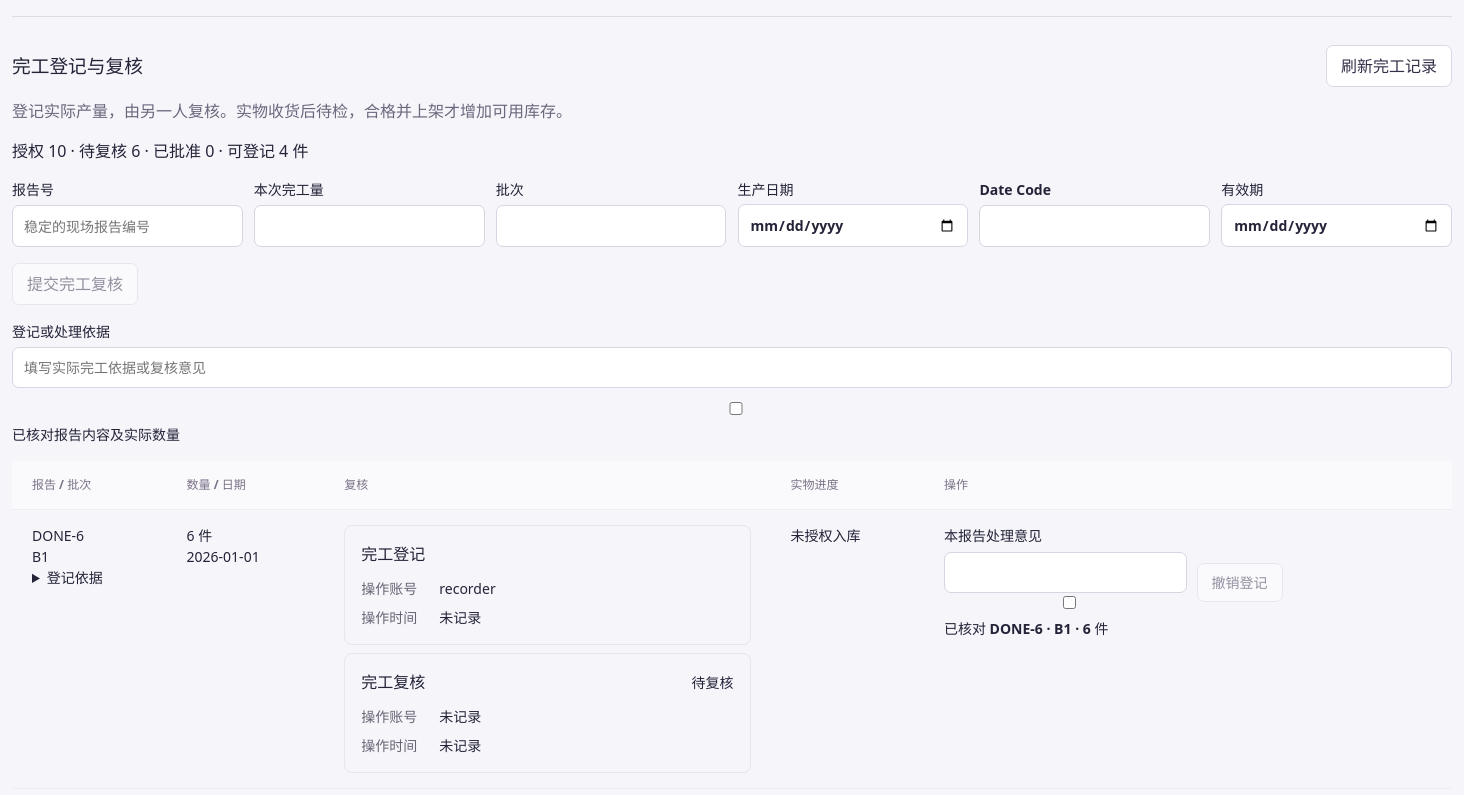
clears rejected version command and reloads current facts
Step 1. Type "核对实际产量" into the field with placeholder "填写实际完工依据或复核意见" → (732, 368), box [12,347,1452,388]
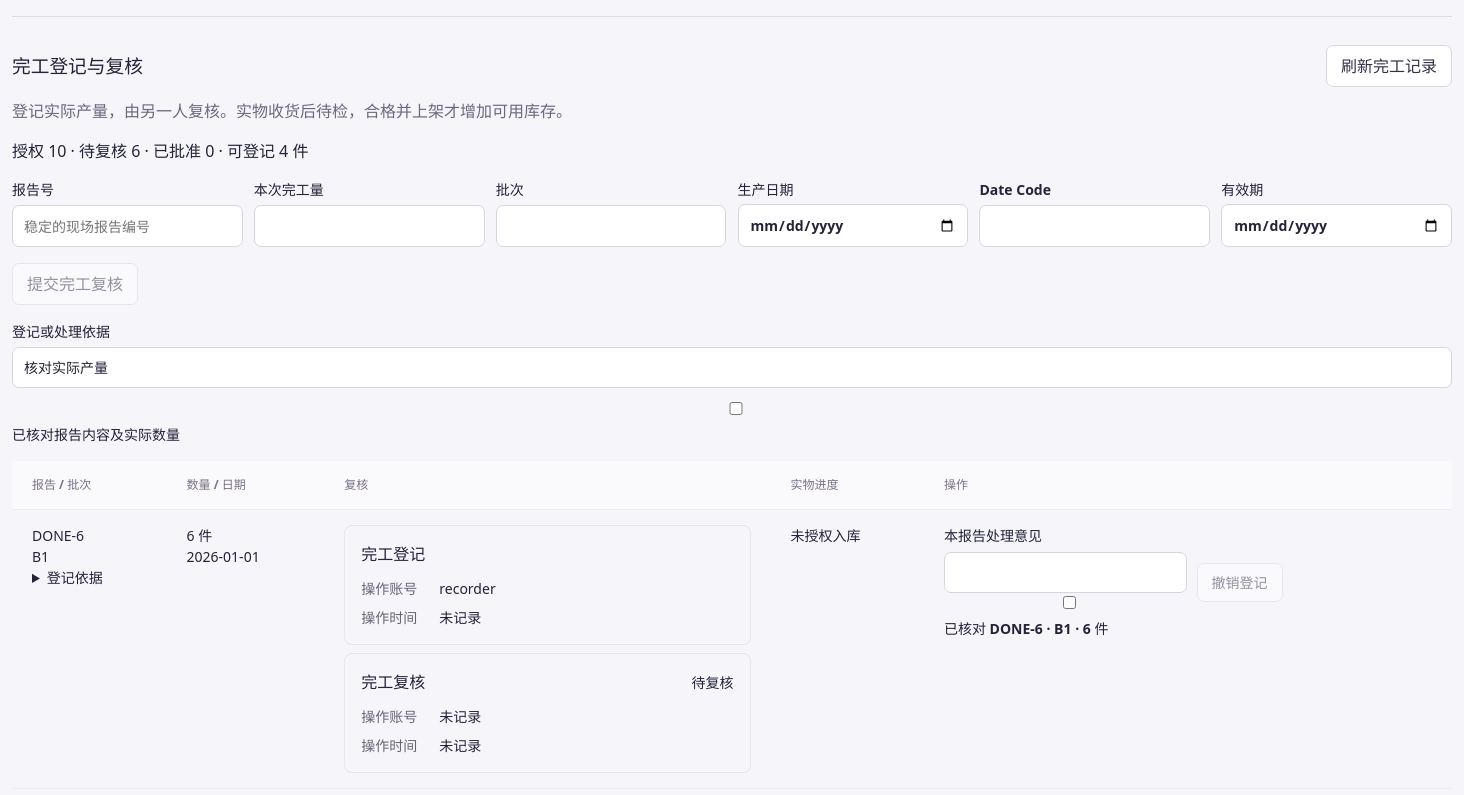
Step 2. Type "核对实际产量" into the field labelled "本报告处理意见" → (1066, 573), box [944,552,1187,593]
(page scrolled)
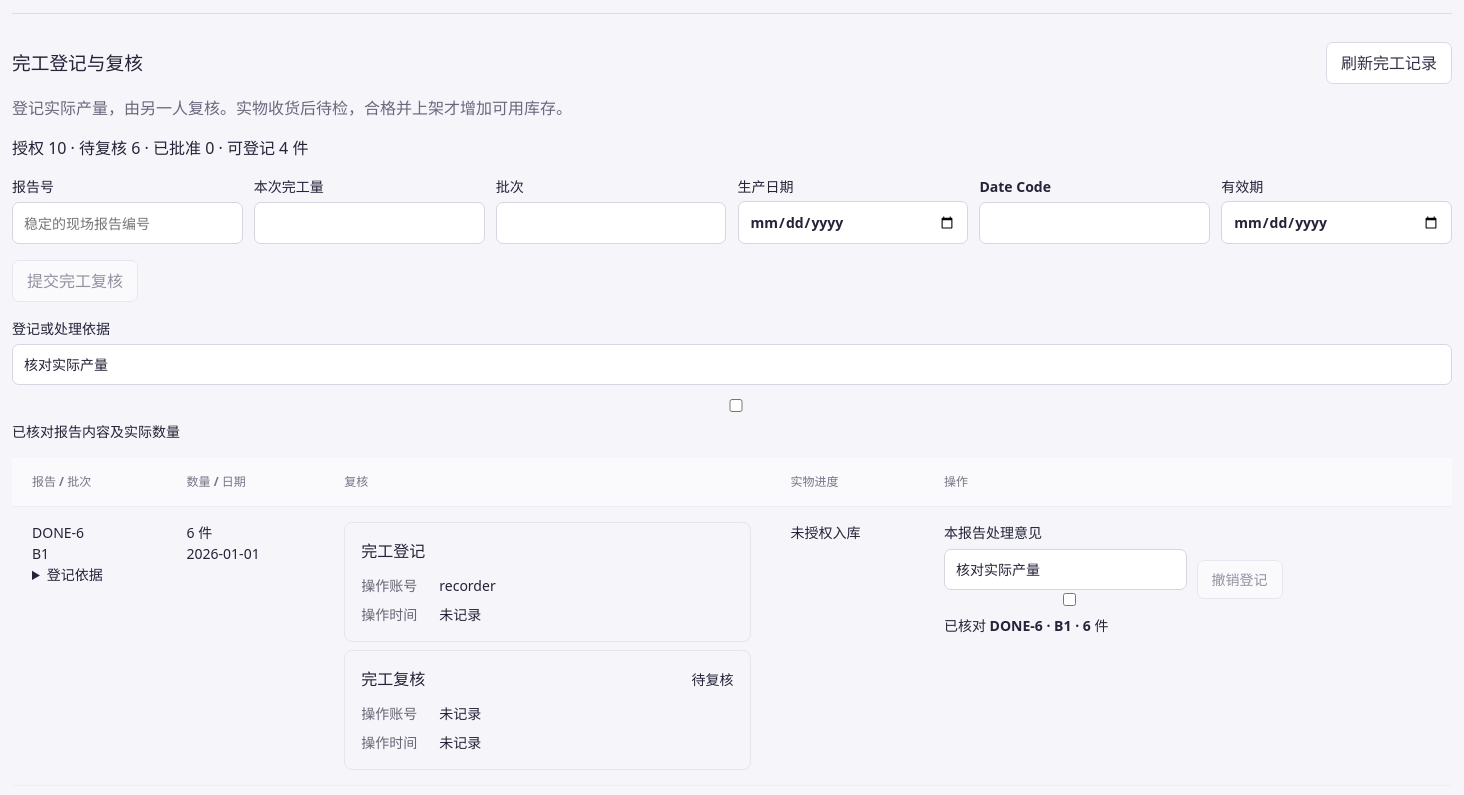
Step 3. Click the checkbox labelled "已核对报告内容及实际数量" → (734, 406), box [16,399,1452,412]
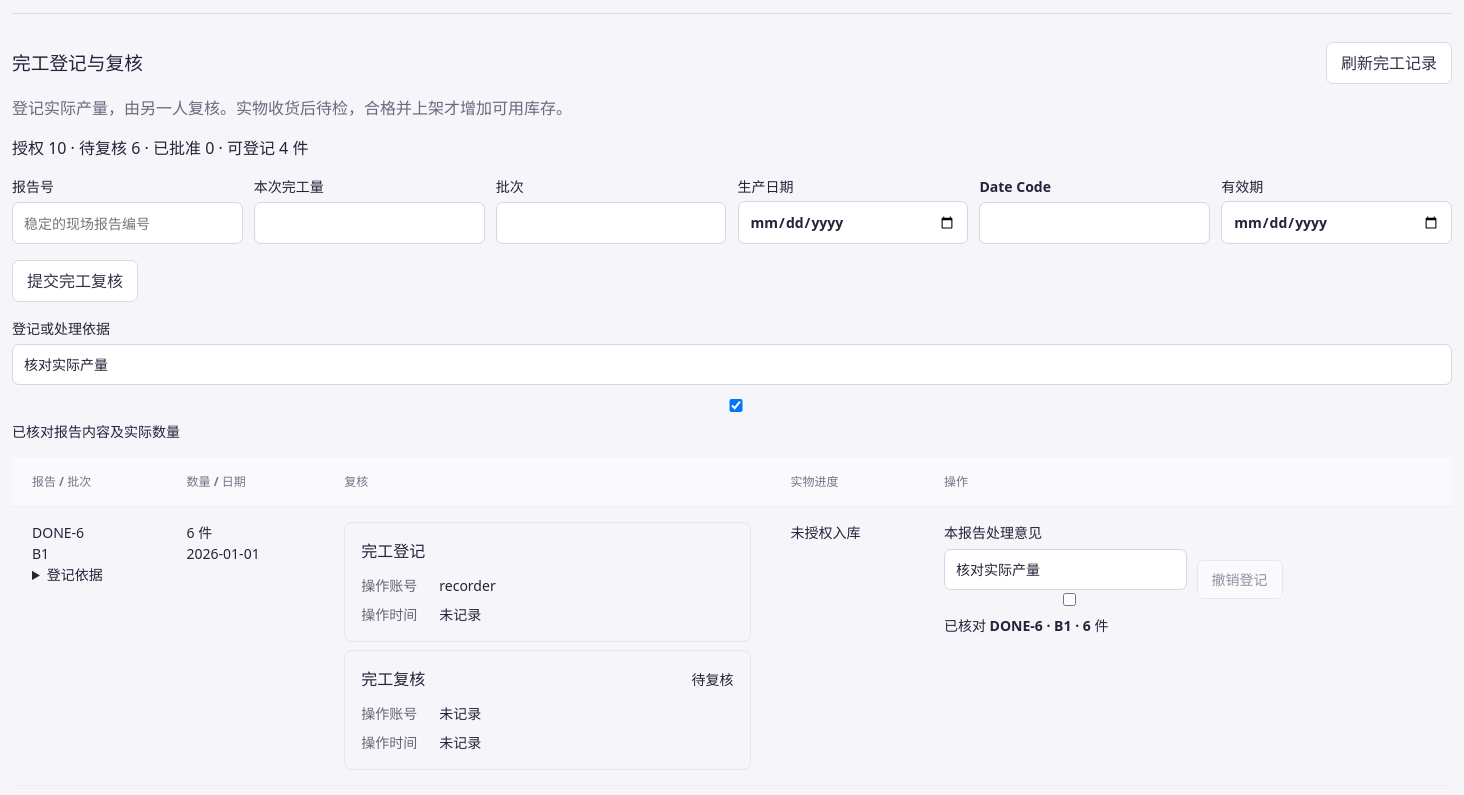
Step 4. Click the checkbox labelled "已核对 DONE-6 · B1 · 6 件" → (1070, 600), box [948,593,1191,606]
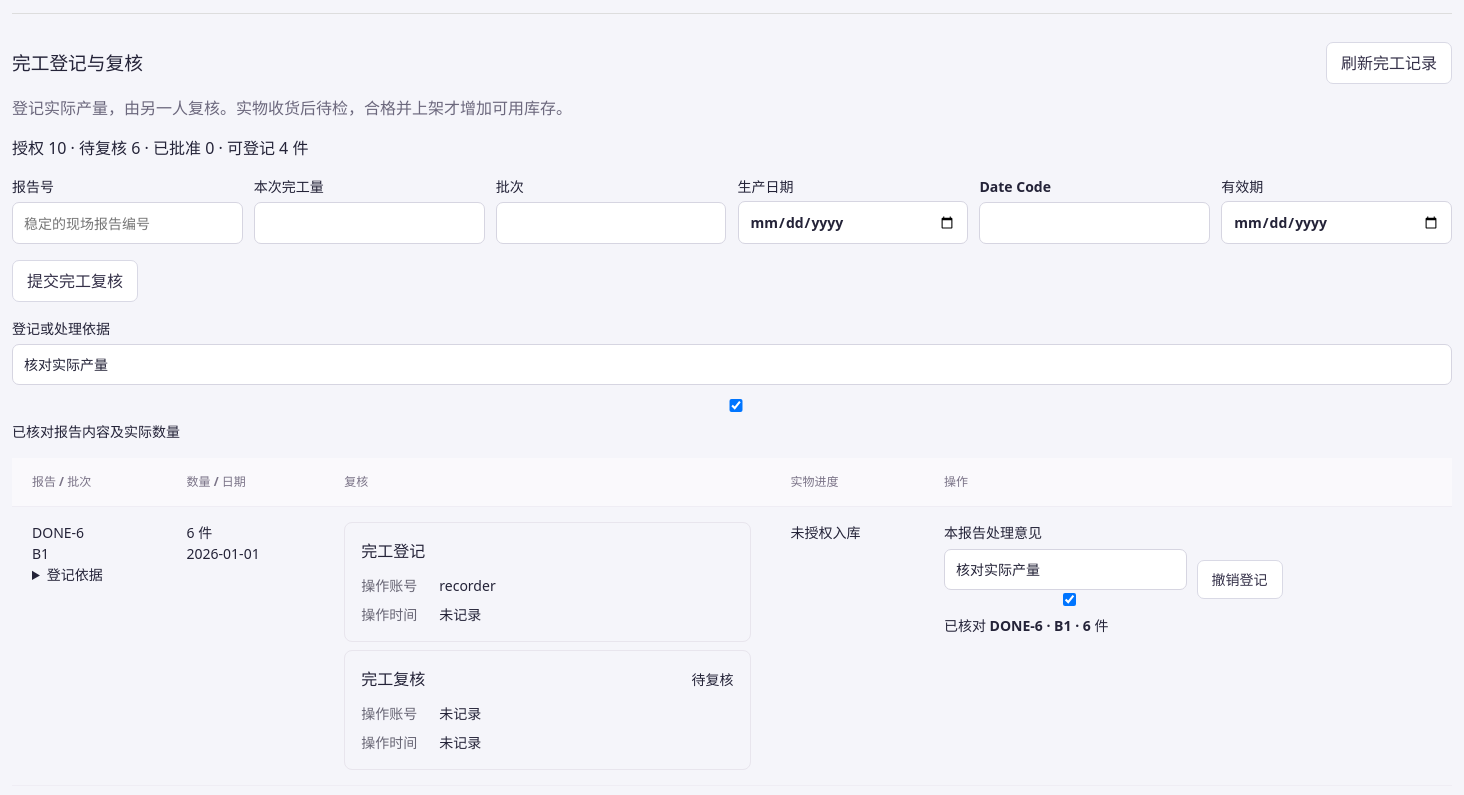
Step 5. Click the button "撤销登记" → (1240, 579), box [1197,560,1283,599]
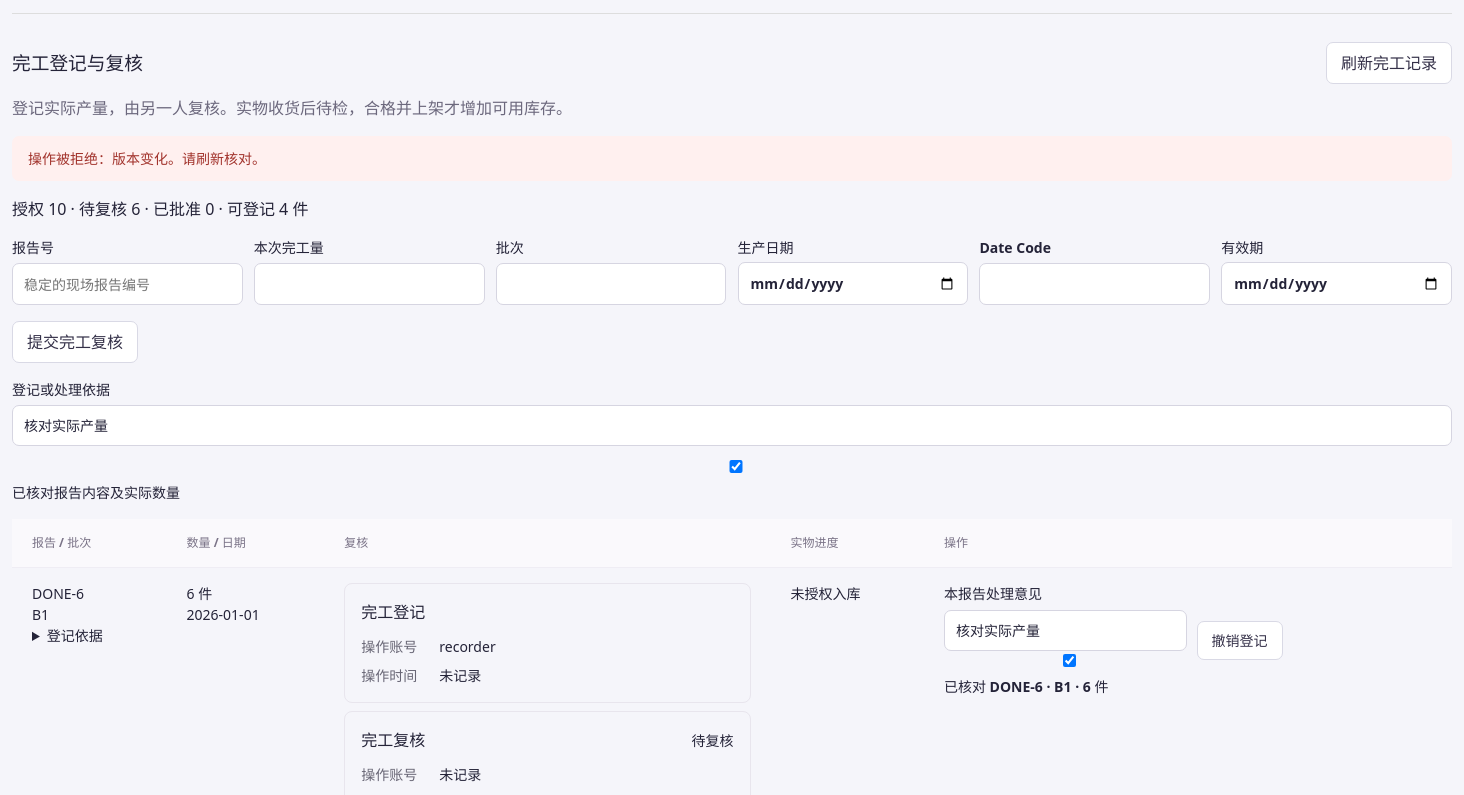
Expected: the text "版本变化" is shown, [28,148,266,168]
